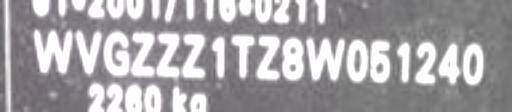letter: (30, 27, 74, 77), (304, 35, 346, 85), (72, 27, 104, 77), (101, 29, 133, 77), (230, 32, 258, 82), (366, 37, 394, 85), (131, 29, 157, 79), (155, 29, 181, 79), (181, 29, 207, 79), (256, 35, 282, 85), (344, 37, 370, 87), (280, 37, 306, 85), (435, 40, 461, 88), (461, 40, 487, 88), (413, 40, 437, 85), (208, 32, 228, 80), (392, 37, 412, 85)
